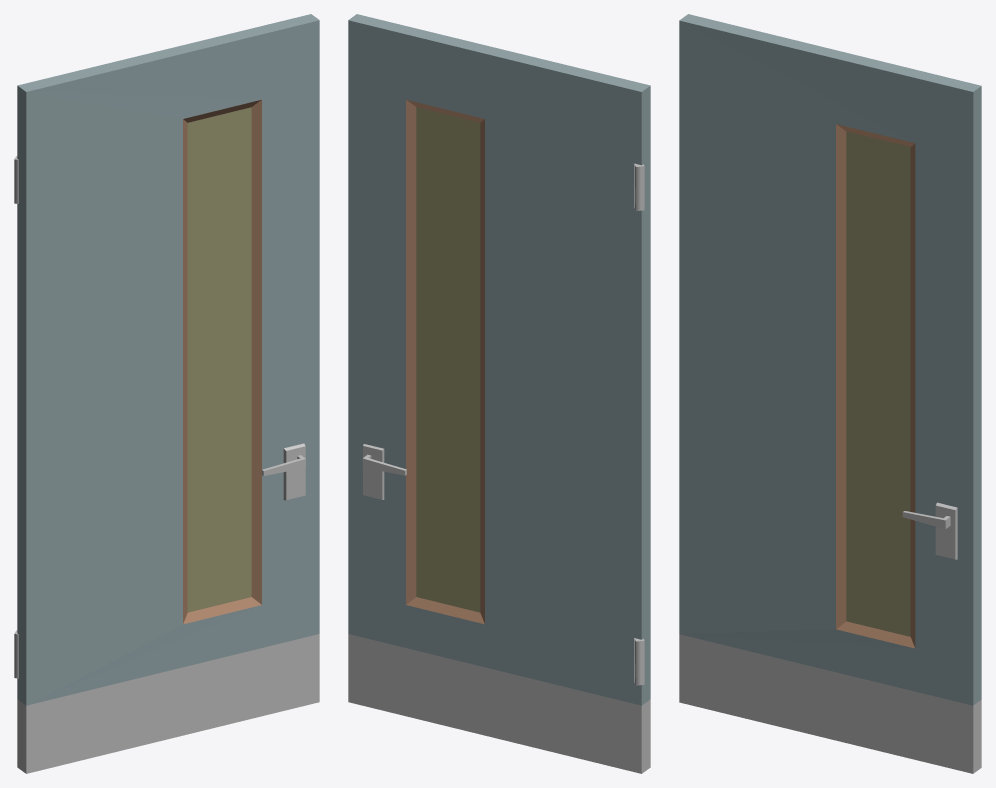
Rendered from SM_Door_A2.FBX.
3 views of the same model, side by side, from view 1: azimuth 30°, elevation 25°; view 2: azimuth 150°, elevation 25°; view 3: azimuth 330°, elevation 25° (orthographic).
Visible parts, largest first — view 1: SM_Door_A2; view 2: SM_Door_A2; view 3: SM_Door_A2.
Boxes of the visible parts, x1,y1,x2,y2 form: SM_Door_A2: (14, 14, 319, 773); SM_Door_A2: (348, 14, 650, 773); SM_Door_A2: (679, 14, 981, 773).
Bounding box in the file's own units: 112 × 14.38 × 245.
